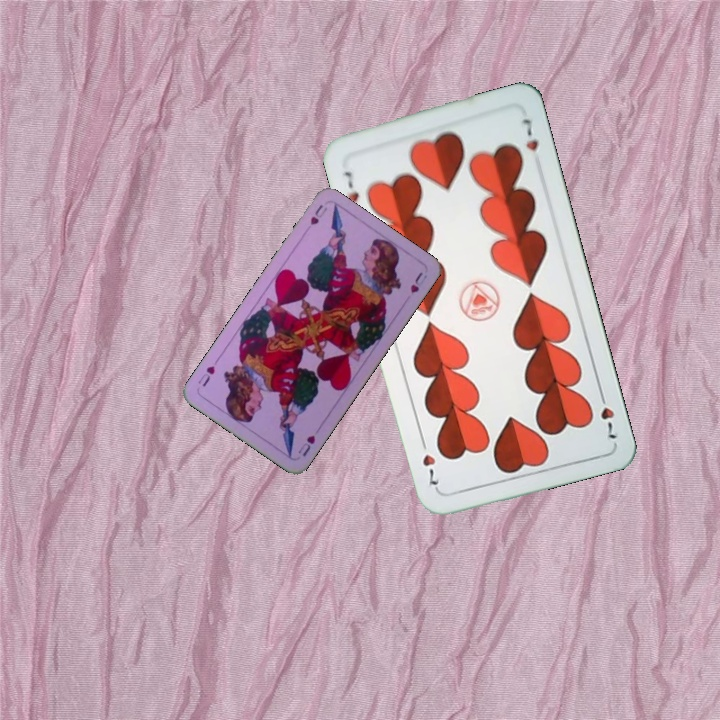H7: (594, 386, 620, 442), (340, 167, 362, 205)
HU: (300, 200, 330, 236), (294, 431, 318, 459)
